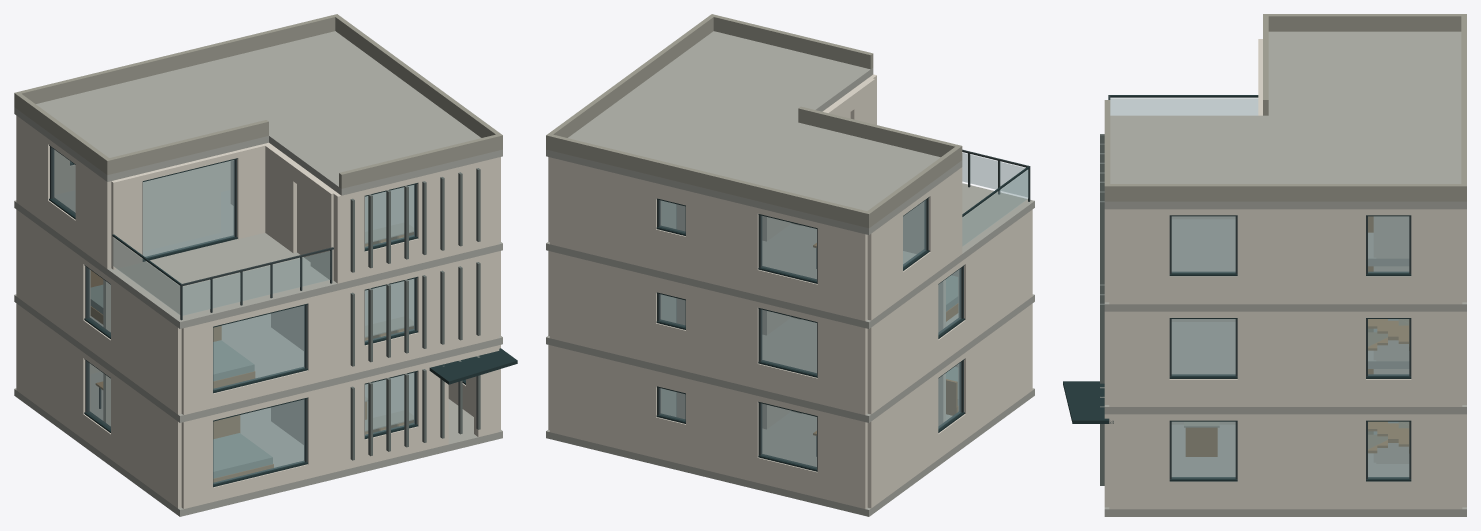
Rendered from house.glb.
The picture shows the model from 3 angles, left to right: view 1: azimuth 30°, elevation 25°; view 2: azimuth 150°, elevation 25°; view 3: azimuth 270°, elevation 25°; orthographic projection. The views are drawn at different scales.
Parts seen in each view (by area): view 1: Roof / drainage design pending, F3 floor / FFL 6000, Roof parapet / flashing detail pending (×5), F1-west, F2-west, F3-southEast, F2-southEast, F1 floor / FFL 0, F2 floor / FFL 3000, F1-southEast, F1-south, F2-south (+22 smaller); view 2: Roof / drainage design pending, F3-north, F2-north, F1-north, Roof parapet / flashing detail pending (×5), F1-west, F2-west, F3 floor / FFL 6000, F3-west, F2 floor / FFL 3000, F1 floor / FFL 0, F1-W06 (+13 smaller); view 3: Roof / drainage design pending, F1-east, F3-east, F2-east, Roof parapet / flashing detail pending (×5), F3 floor / FFL 6000, F2 floor / FFL 3000, F1 floor / FFL 0, F1-W04, F2-W04, F3-W04, Terrace west glass infill (+14 smaller).
Boxes of the visible parts, box(x1,y1,x2,y2) form: Roof / drainage design pending: box(14, 31, 502, 195); F3 floor / FFL 6000: box(14, 185, 502, 328); Roof parapet / flashing detail pending (×5): box(14, 14, 502, 188); F1-west: box(16, 303, 181, 508); F2-west: box(16, 209, 181, 414); F3-southEast: box(333, 157, 499, 283); F2-southEast: box(337, 251, 499, 377); F1 floor / FFL 0: box(14, 372, 502, 516); F2 floor / FFL 3000: box(14, 279, 502, 422); F1-southEast: box(337, 345, 499, 471); F1-south: box(181, 384, 337, 508); F2-south: box(181, 290, 337, 414); Roof / drainage design pending: box(546, 31, 962, 234); F3-north: box(549, 157, 867, 321); F2-north: box(549, 251, 867, 415); F1-north: box(549, 345, 867, 508); Roof parapet / flashing detail pending (×5): box(546, 14, 962, 227); F1-west: box(867, 303, 1032, 508); F2-west: box(867, 209, 1032, 414); F3 floor / FFL 6000: box(546, 183, 1034, 328); F3-west: box(867, 167, 962, 320); F2 floor / FFL 3000: box(546, 294, 1034, 422); F1 floor / FFL 0: box(546, 388, 1034, 516); F1-W06: box(761, 403, 816, 468); Roof / drainage design pending: box(1104, 31, 1466, 209); F1-east: box(1109, 414, 1462, 509); F3-east: box(1109, 209, 1462, 304); F2-east: box(1109, 311, 1462, 406); Roof parapet / flashing detail pending (×5): box(1104, 14, 1466, 201); F3 floor / FFL 6000: box(1104, 219, 1466, 311); F2 floor / FFL 3000: box(1104, 322, 1466, 414); F1 floor / FFL 0: box(1104, 424, 1466, 516); F1-W04: box(1171, 421, 1235, 478); F2-W04: box(1171, 319, 1235, 375); F3-W04: box(1171, 216, 1235, 272); Terrace west glass infill: box(1110, 98, 1257, 115).
Bounding box in the file's own units: 10.8 × 9.67 × 10.7.
